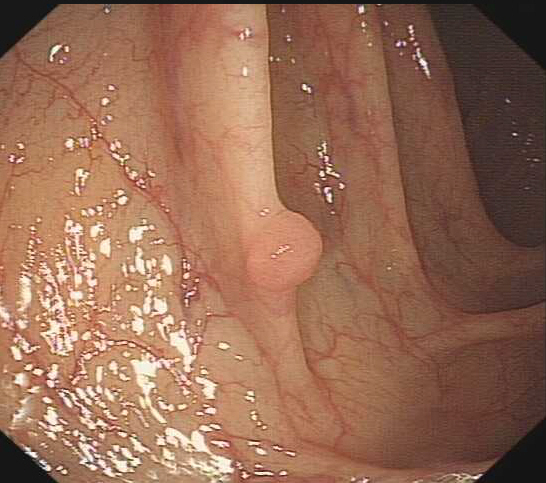adenoma: (242, 208, 324, 293)
